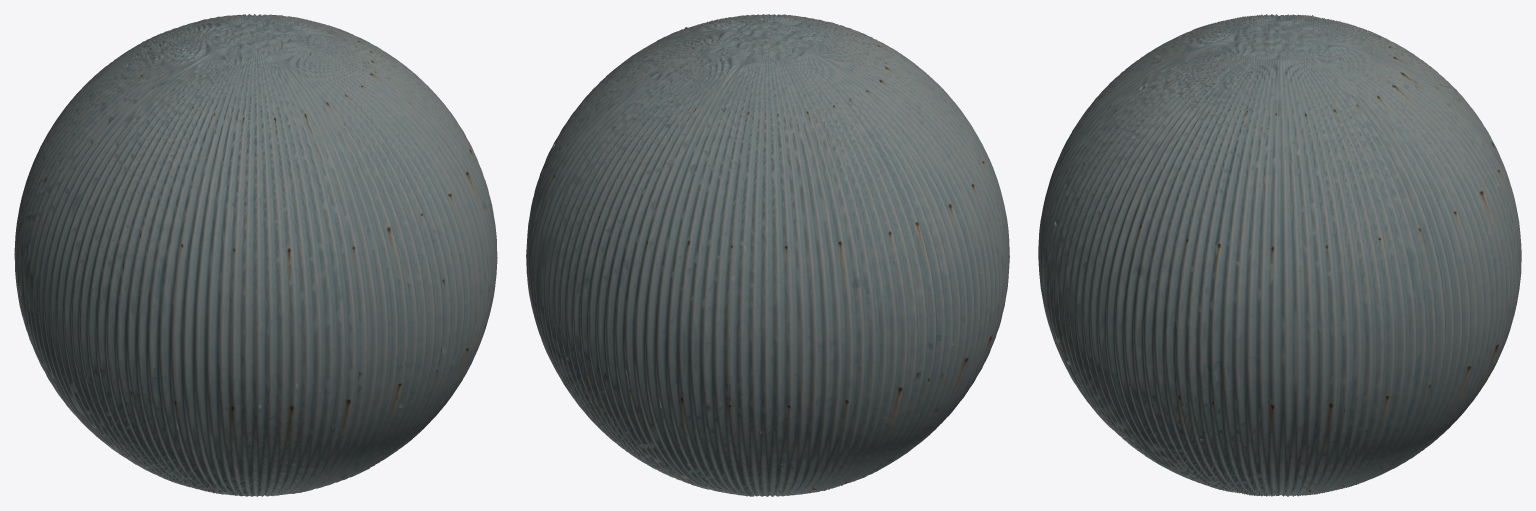
The model's file is corrugated_iron_03_2k.gltf.
The picture shows the model from 3 angles, left to right: view 1: azimuth 30°, elevation 25°; view 2: azimuth 150°, elevation 25°; view 3: azimuth 270°, elevation 25°; orthographic projection.
Parts seen in each view (by area): view 1: sphere_gltf; view 2: sphere_gltf; view 3: sphere_gltf.
Boxes of the visible parts, box(x1,y1,x2,y2) form: sphere_gltf: box(14, 14, 497, 496); sphere_gltf: box(526, 14, 1009, 496); sphere_gltf: box(1038, 14, 1521, 496).
Bounding box in the file's own units: 2 × 2.01 × 2.
Materials: 1 (1 with a texture image).
